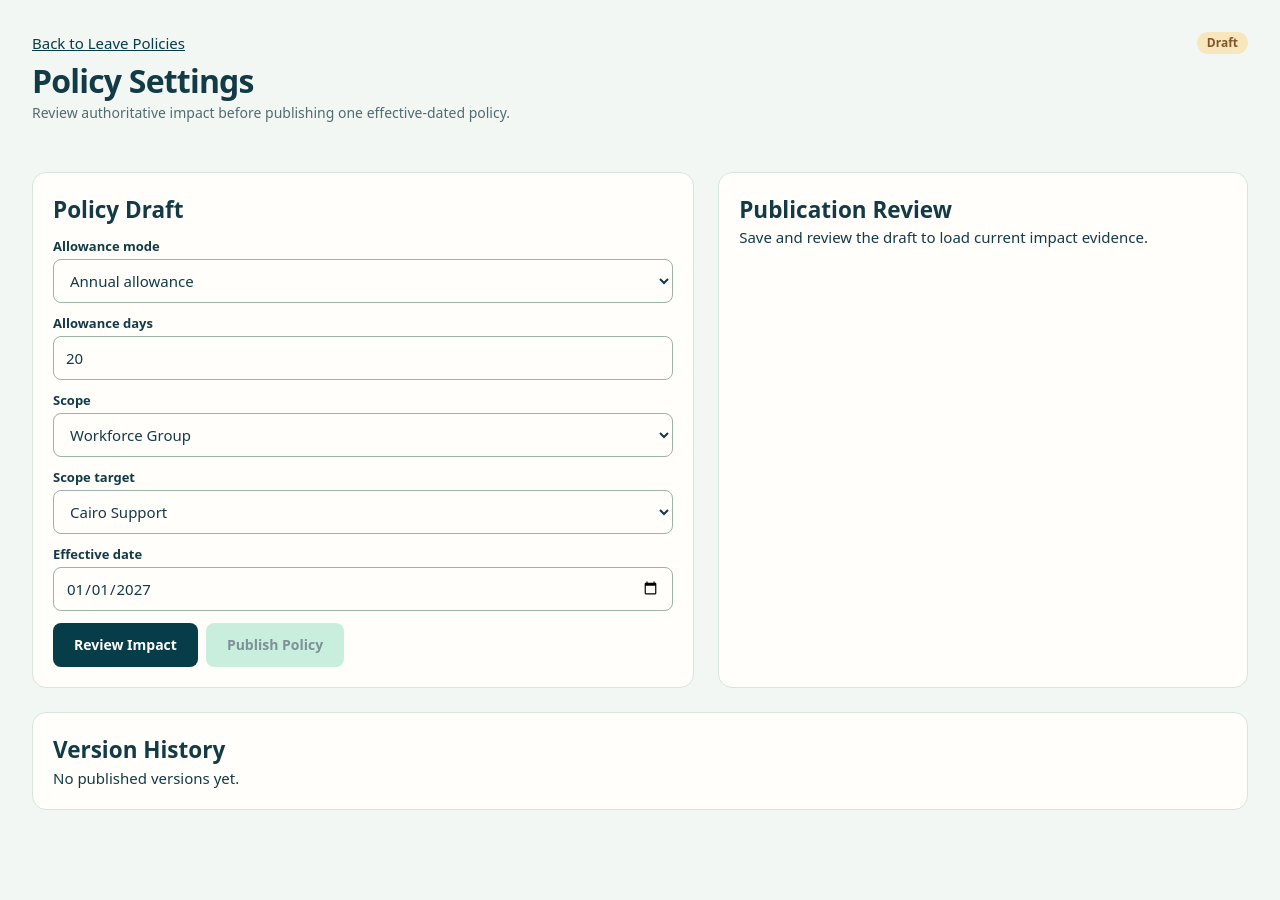
Scenario: PolicySettingsPage › [P0] renders named authoritative scope, member balances, conflicts and effective date before confirmation
Expected: the button "Publish Policy" is disabled, [206,623,344,667]
Click the button "Review Impact".
click(125, 645)  # box [53,623,198,667]
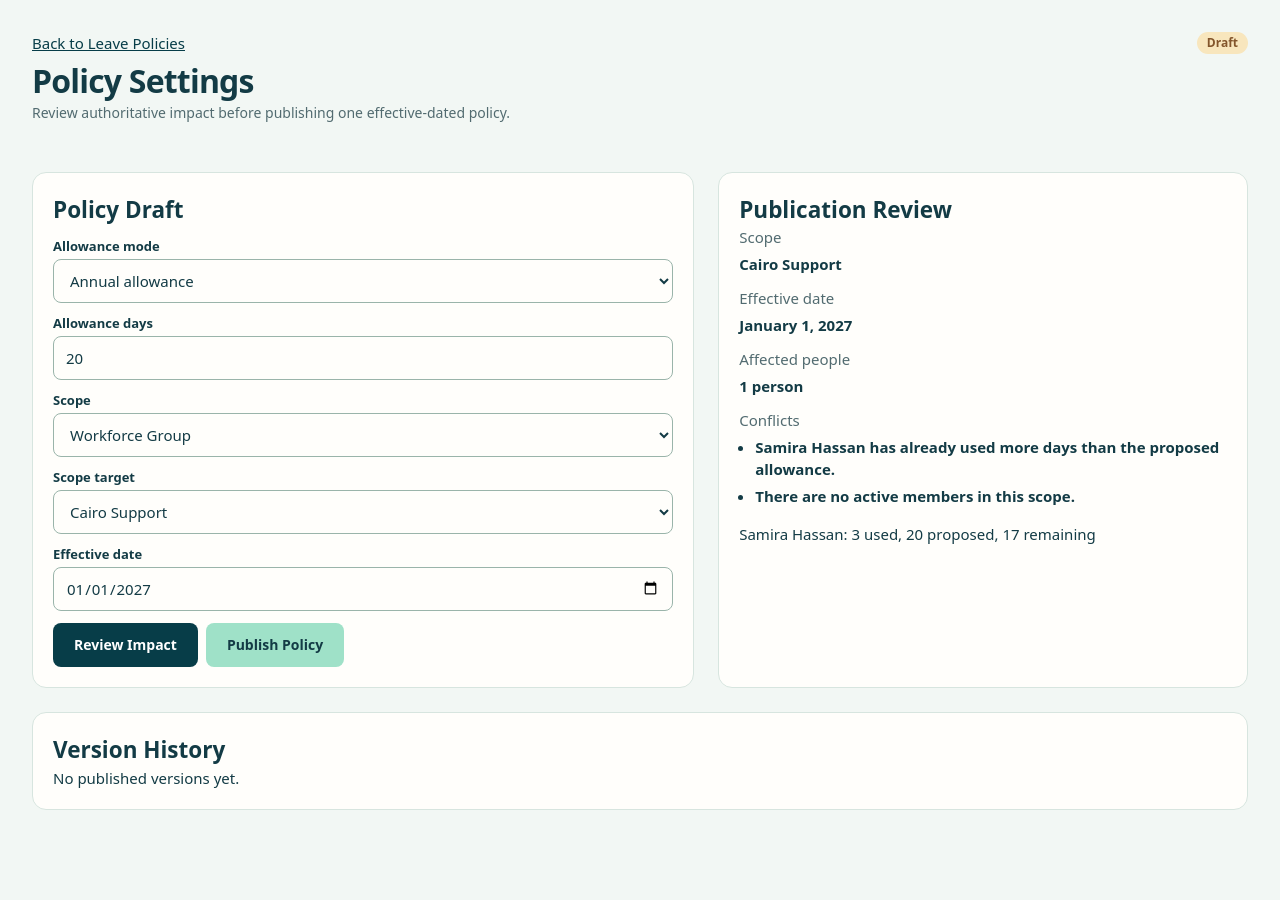
Result: the text "Samira Hassan" is shown at [739,524,844,544]
Result: the text "Samira Hassan: 3 used, 20 proposed, 17 remaining" is shown at [739,524,1096,544]
Result: the list item "Samira Hassan has already used more days" is shown at [755,437,1219,479]
Click the button "Publish Policy".
click(275, 645)  # box [206,623,344,667]
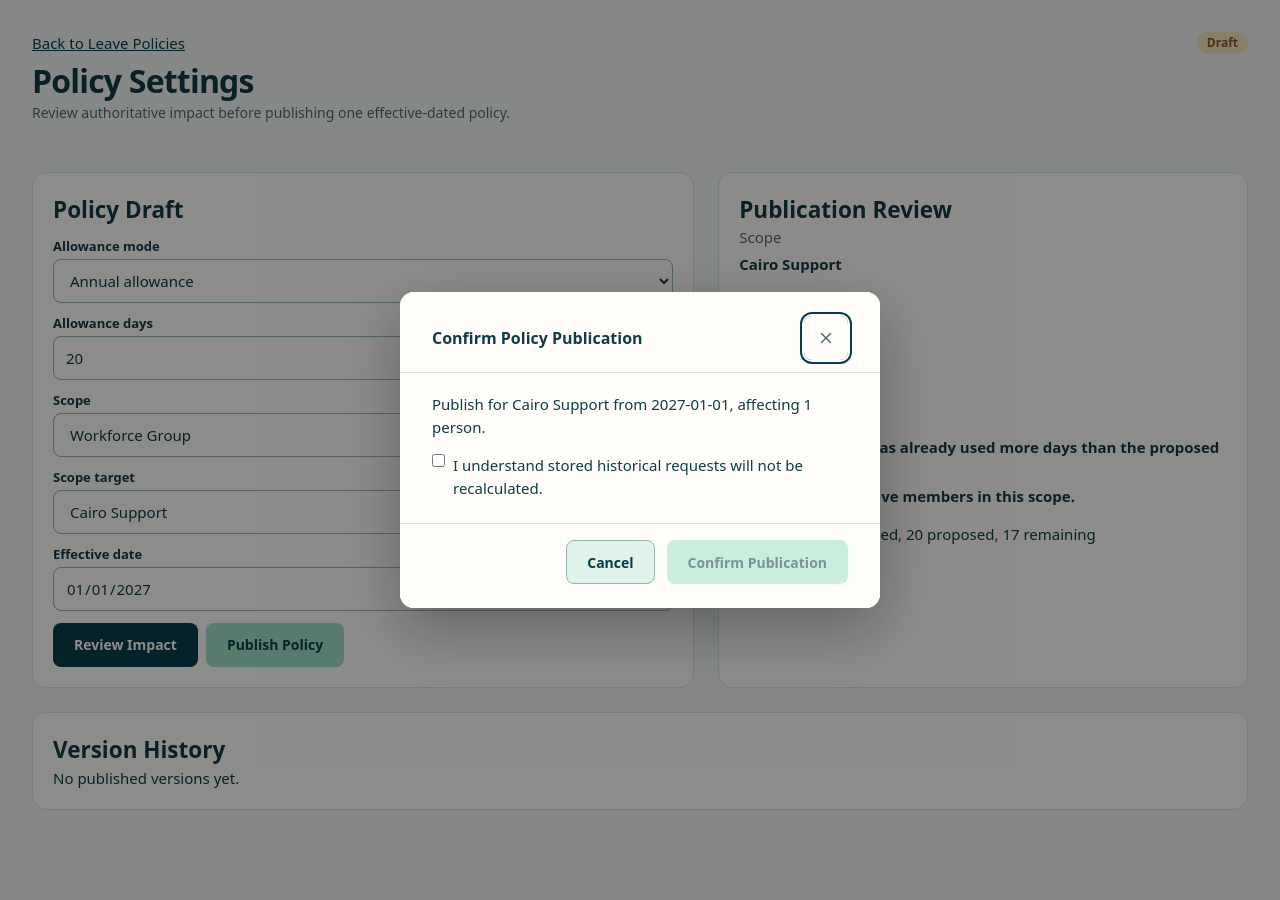
Result: the dialog shows "Cairo Support" at [432,394,812,436]
Result: the button "Confirm Publication" is disabled at [666,540,848,584]
